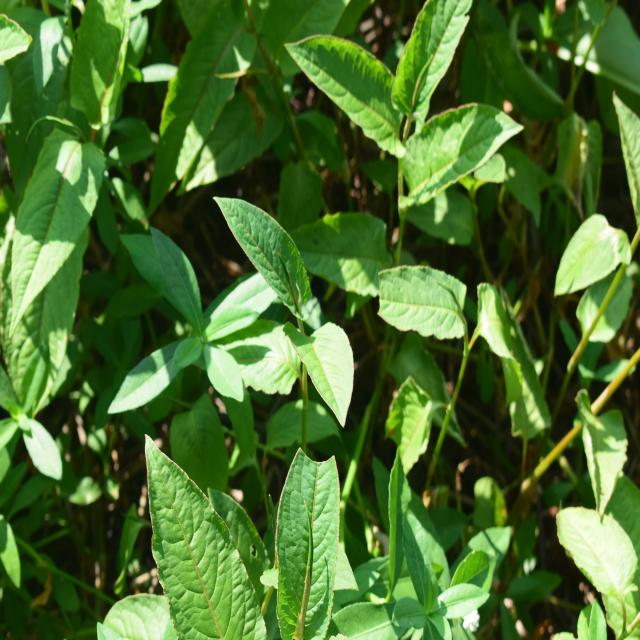Chinese_knotweed: (298, 0, 512, 193), (132, 468, 356, 635), (240, 188, 363, 435)
